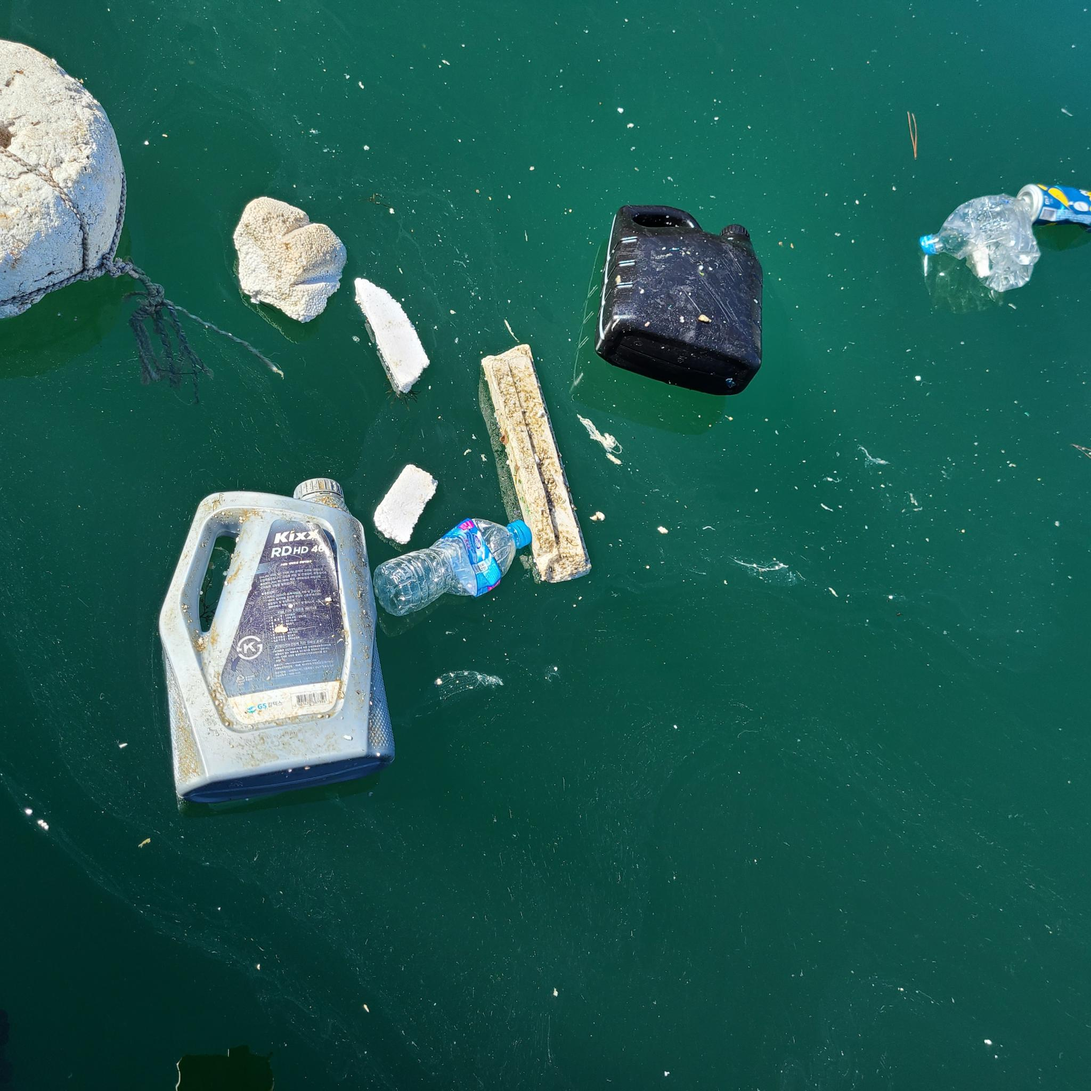sampah_terapung: (158, 478, 396, 804), (1, 41, 128, 320), (595, 205, 764, 396), (105, 256, 286, 407), (373, 518, 534, 617), (234, 197, 348, 324), (919, 194, 1041, 293), (355, 278, 430, 395), (374, 464, 439, 546), (1017, 184, 1091, 228)
